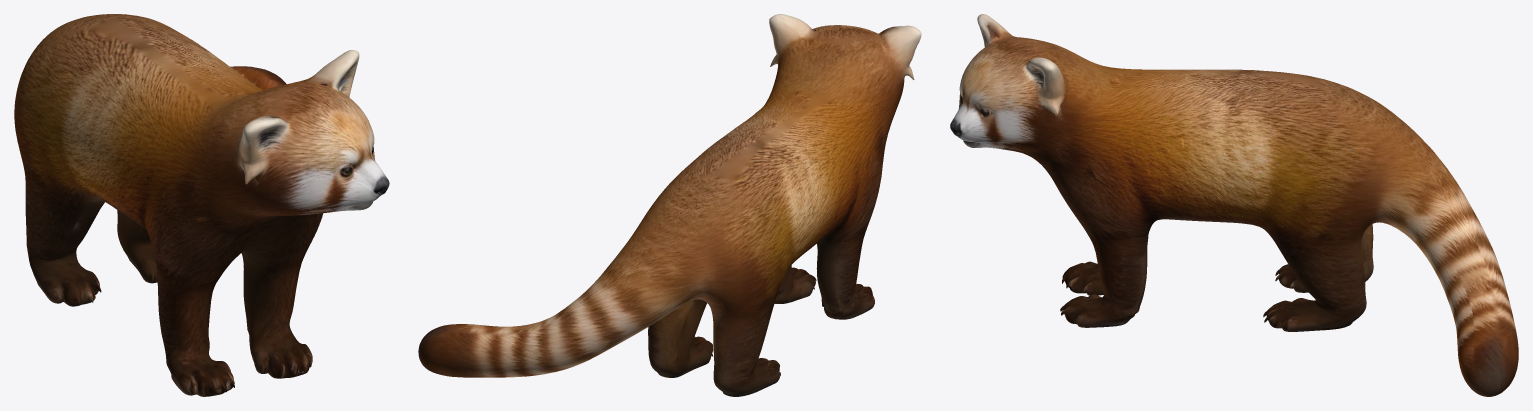
The model's file is red-panda.glb.
3 renders of one model, left to right at view 1: azimuth 30°, elevation 25°; view 2: azimuth 150°, elevation 25°; view 3: azimuth 270°, elevation 25°, orthographic. The views are drawn at different scales.
Visible parts, largest first — view 1: node_0; view 2: node_0; view 3: node_0.
Part boxes in pixels (x1,y1,x2,y2): node_0: (14,14,389,396); node_0: (418,14,921,396); node_0: (950,14,1518,396).
Bounding box in the file's own units: 0.6119 × 0.5384 × 1.01.
Materials: 1 (1 with a texture image).
